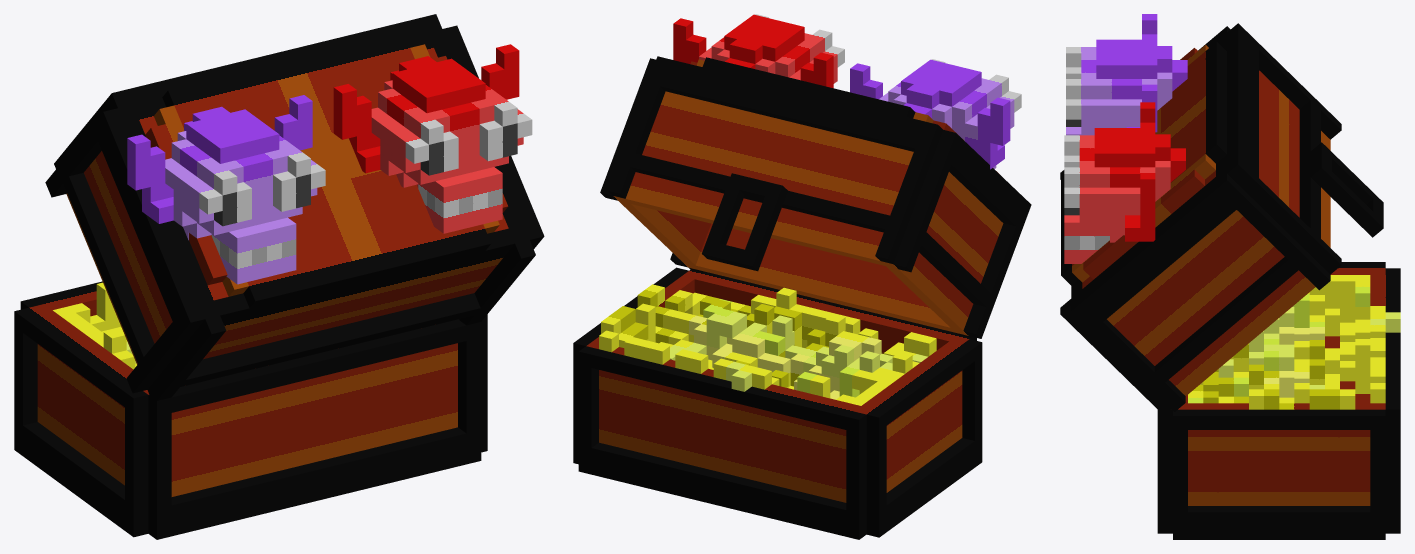
File: cofre_infierno.dae
The picture shows the model from 3 angles, left to right: view 1: azimuth 30°, elevation 25°; view 2: azimuth 150°, elevation 25°; view 3: azimuth 270°, elevation 25°; orthographic projection. The views are drawn at different scales.
Parts seen in each view (by area): view 1: Node (1)-local, Node-local, Node (13)-local, Node (7)-local; view 2: Node-local, Node (1)-local, Node (13)-local, Node (7)-local; view 3: Node (1)-local, Node-local, Node (7)-local, Node (13)-local.
Boxes of the visible parts, x1,y1,x2,y2 form: Node (1)-local: (45,14,544,403); Node-local: (14,281,487,539); Node (13)-local: (127,95,325,284); Node (7)-local: (333,44,532,233); Node-local: (573,267,982,539); Node (1)-local: (600,56,1031,339); Node (13)-local: (850,59,1021,169); Node (7)-local: (673,14,844,88); Node (1)-local: (1060,23,1383,413); Node-local: (1157,262,1400,539); Node (7)-local: (1064,102,1185,263); Node (13)-local: (1066,14,1187,135).
Bounding box in the file's own units: 25.94 × 26.87 × 22.42.
4 materials, 4 textured.
